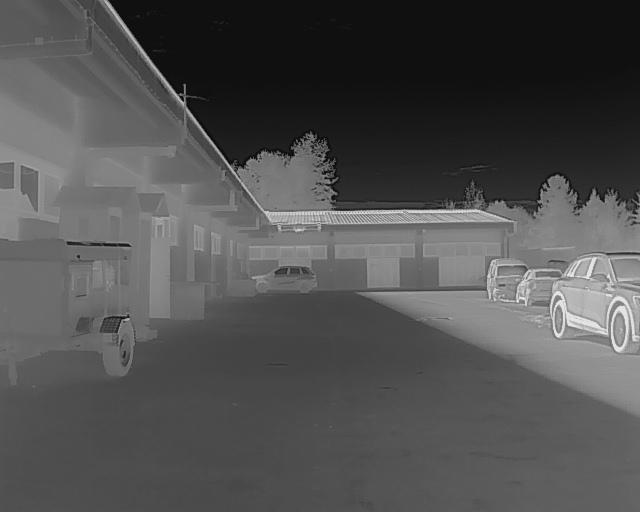drone: (267, 218, 329, 241)
